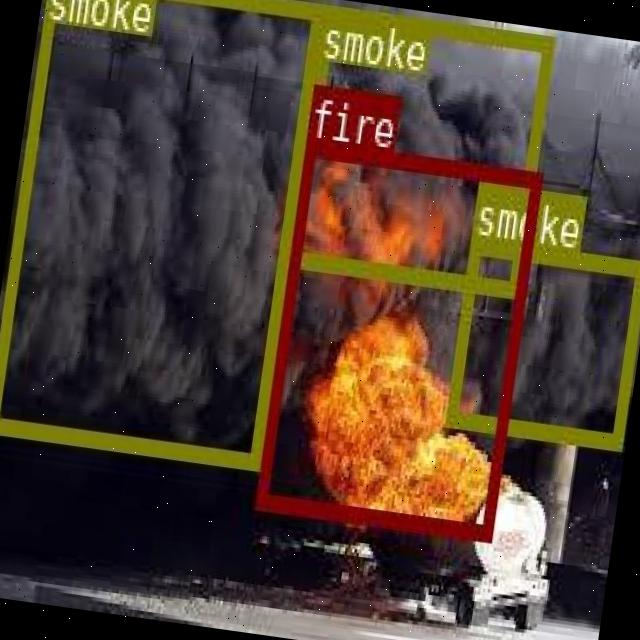fire: (255, 138, 541, 536)
smoke: (0, 0, 321, 465), (288, 2, 554, 296), (445, 234, 640, 448)
